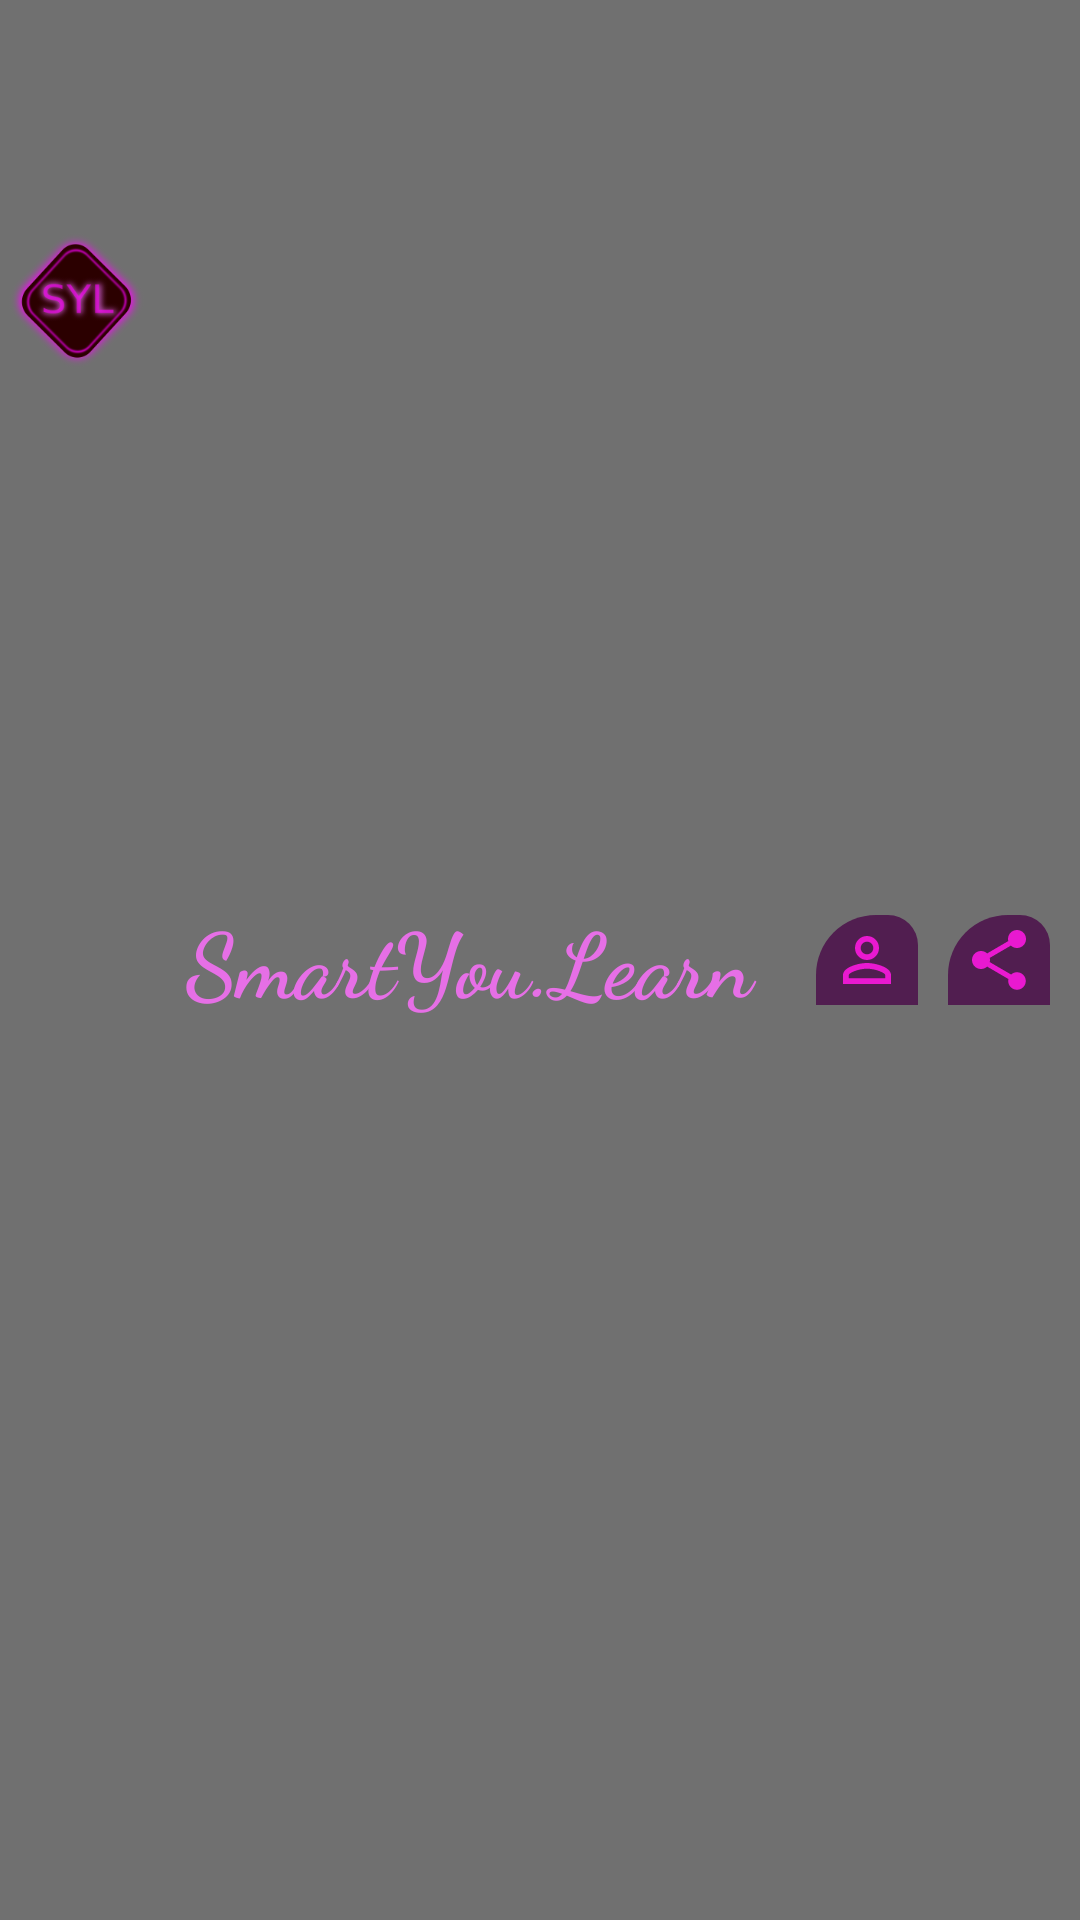

Screen size 1080*1920. Icon name, then its center in pixels as point (x, y):
person: point (867, 960)
share: point (999, 960)
